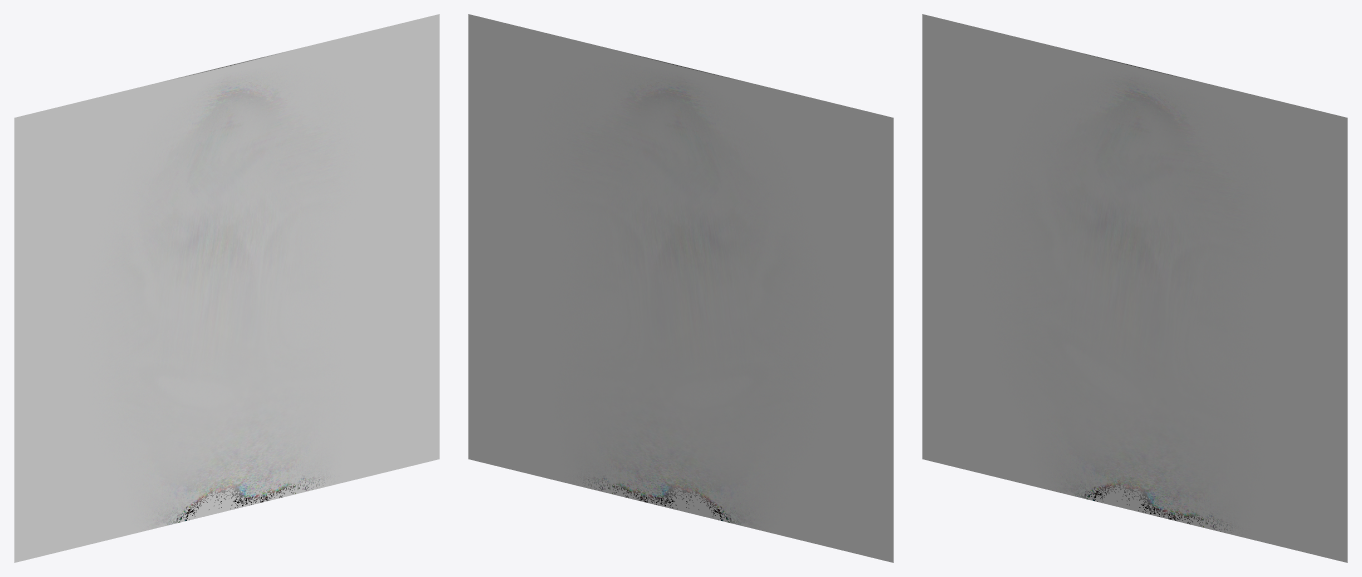
File: Fog Old.FBX
3 views of the same model, side by side, from view 1: azimuth 30°, elevation 25°; view 2: azimuth 150°, elevation 25°; view 3: azimuth 330°, elevation 25° (orthographic).
Visible parts, largest first — view 1: Fog; view 2: Fog; view 3: Fog.
Boxes of the visible parts, x1=… form: Fog: x1=14, y1=14, x2=439, y2=562; Fog: x1=468, y1=14, x2=893, y2=562; Fog: x1=922, y1=14, x2=1347, y2=562.
Bounding box in the file's own units: 200 × 8.74e-06 × 200.
1 material, 1 textured.
